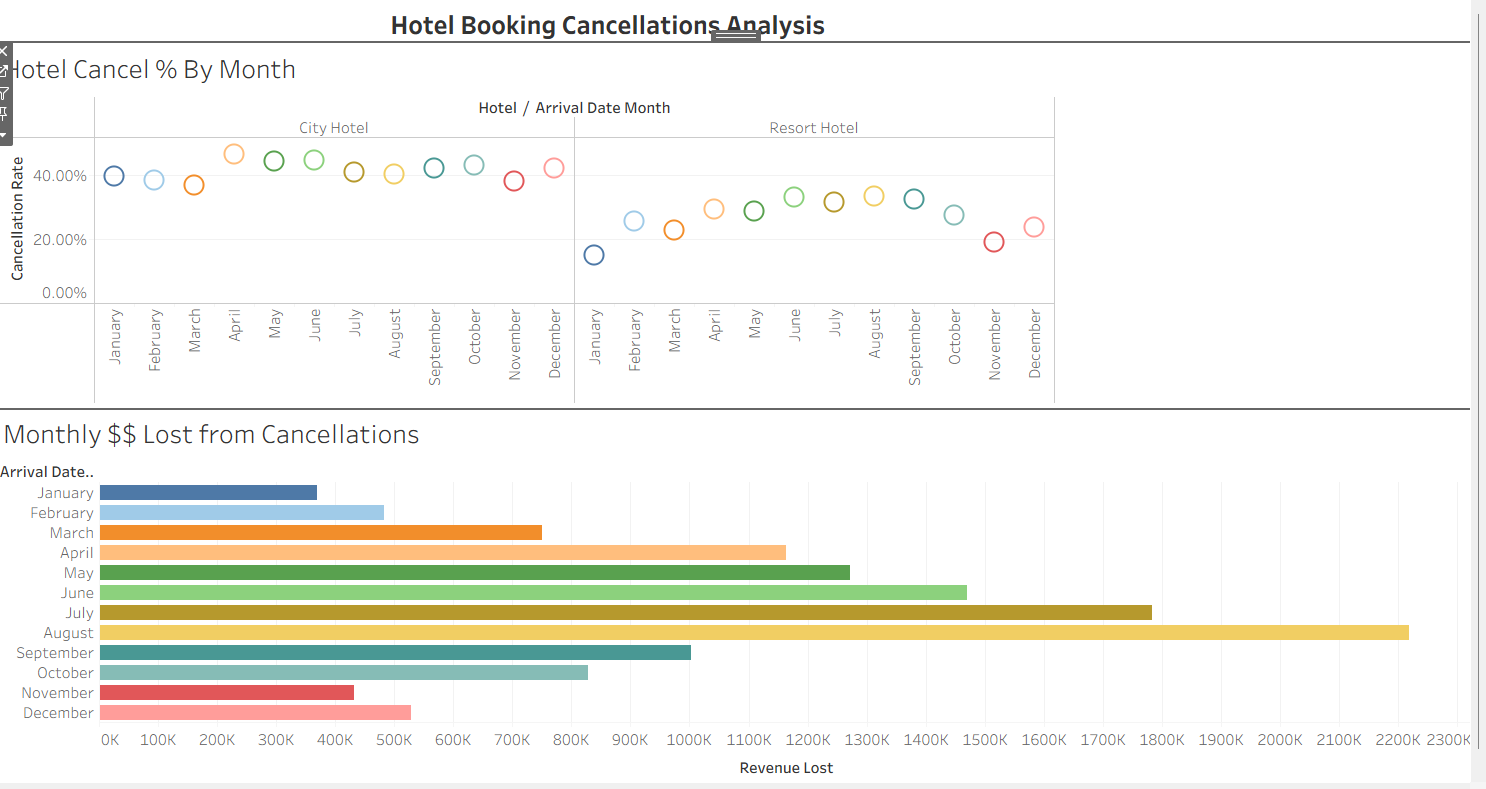

This screenshot's page, from the dashboard's own definition file:
{"tool":"tableau","page":{"name":"Monthly Data Overview","canvas":[1000,1000],"units":"permille","ordinal":1},"visuals":[{"type":"title","box":[5.3,10,989.3,47.4]},{"type":"worksheet","title":"Cancellation % By Month","mark":"Shape","rows":["Calculation1"],"cols":["hotel","arrival_date_month"],"box":[5.3,57.4,989.3,455.7]},{"type":"worksheet","title":"Monthly $$ Lost from Cancellations","mark":"Automatic","rows":["arrival_date_month"],"cols":["Calculation_855965453143552001"],"box":[5.3,513.1,989.3,476.9]}]}

Visuals, with their boxes on the dashboard's canvas, which has no fixed pixel size, in thousandths of its width and height (x1, y1, x2, y2). These are canvas units, not pixel positions in the 1486x789 screenshot, which may show the page scaled, cropped or inside an application window:
title: x1=5 y1=10 x2=995 y2=57
"Cancellation % By Month" worksheet (Shape marks): x1=5 y1=57 x2=995 y2=513
"Monthly $$ Lost from Cancellations" worksheet: x1=5 y1=513 x2=995 y2=990
